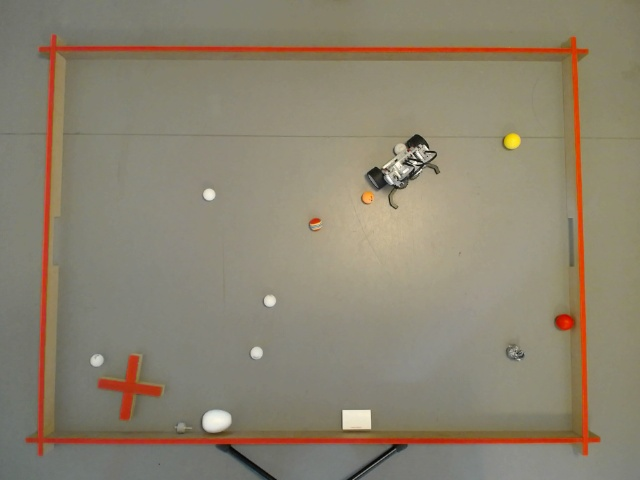big_goal: (42, 212, 62, 264), (564, 219, 582, 266)
cross: (99, 351, 164, 420)
egg: (201, 410, 232, 432)
orange: (364, 192, 372, 203)
robot: (366, 134, 442, 206)
wall: (37, 30, 64, 456), (27, 428, 600, 447), (562, 36, 588, 453), (38, 45, 588, 62)
white: (90, 353, 102, 365), (251, 347, 262, 359), (204, 189, 214, 201), (264, 294, 274, 305), (395, 143, 404, 152)
